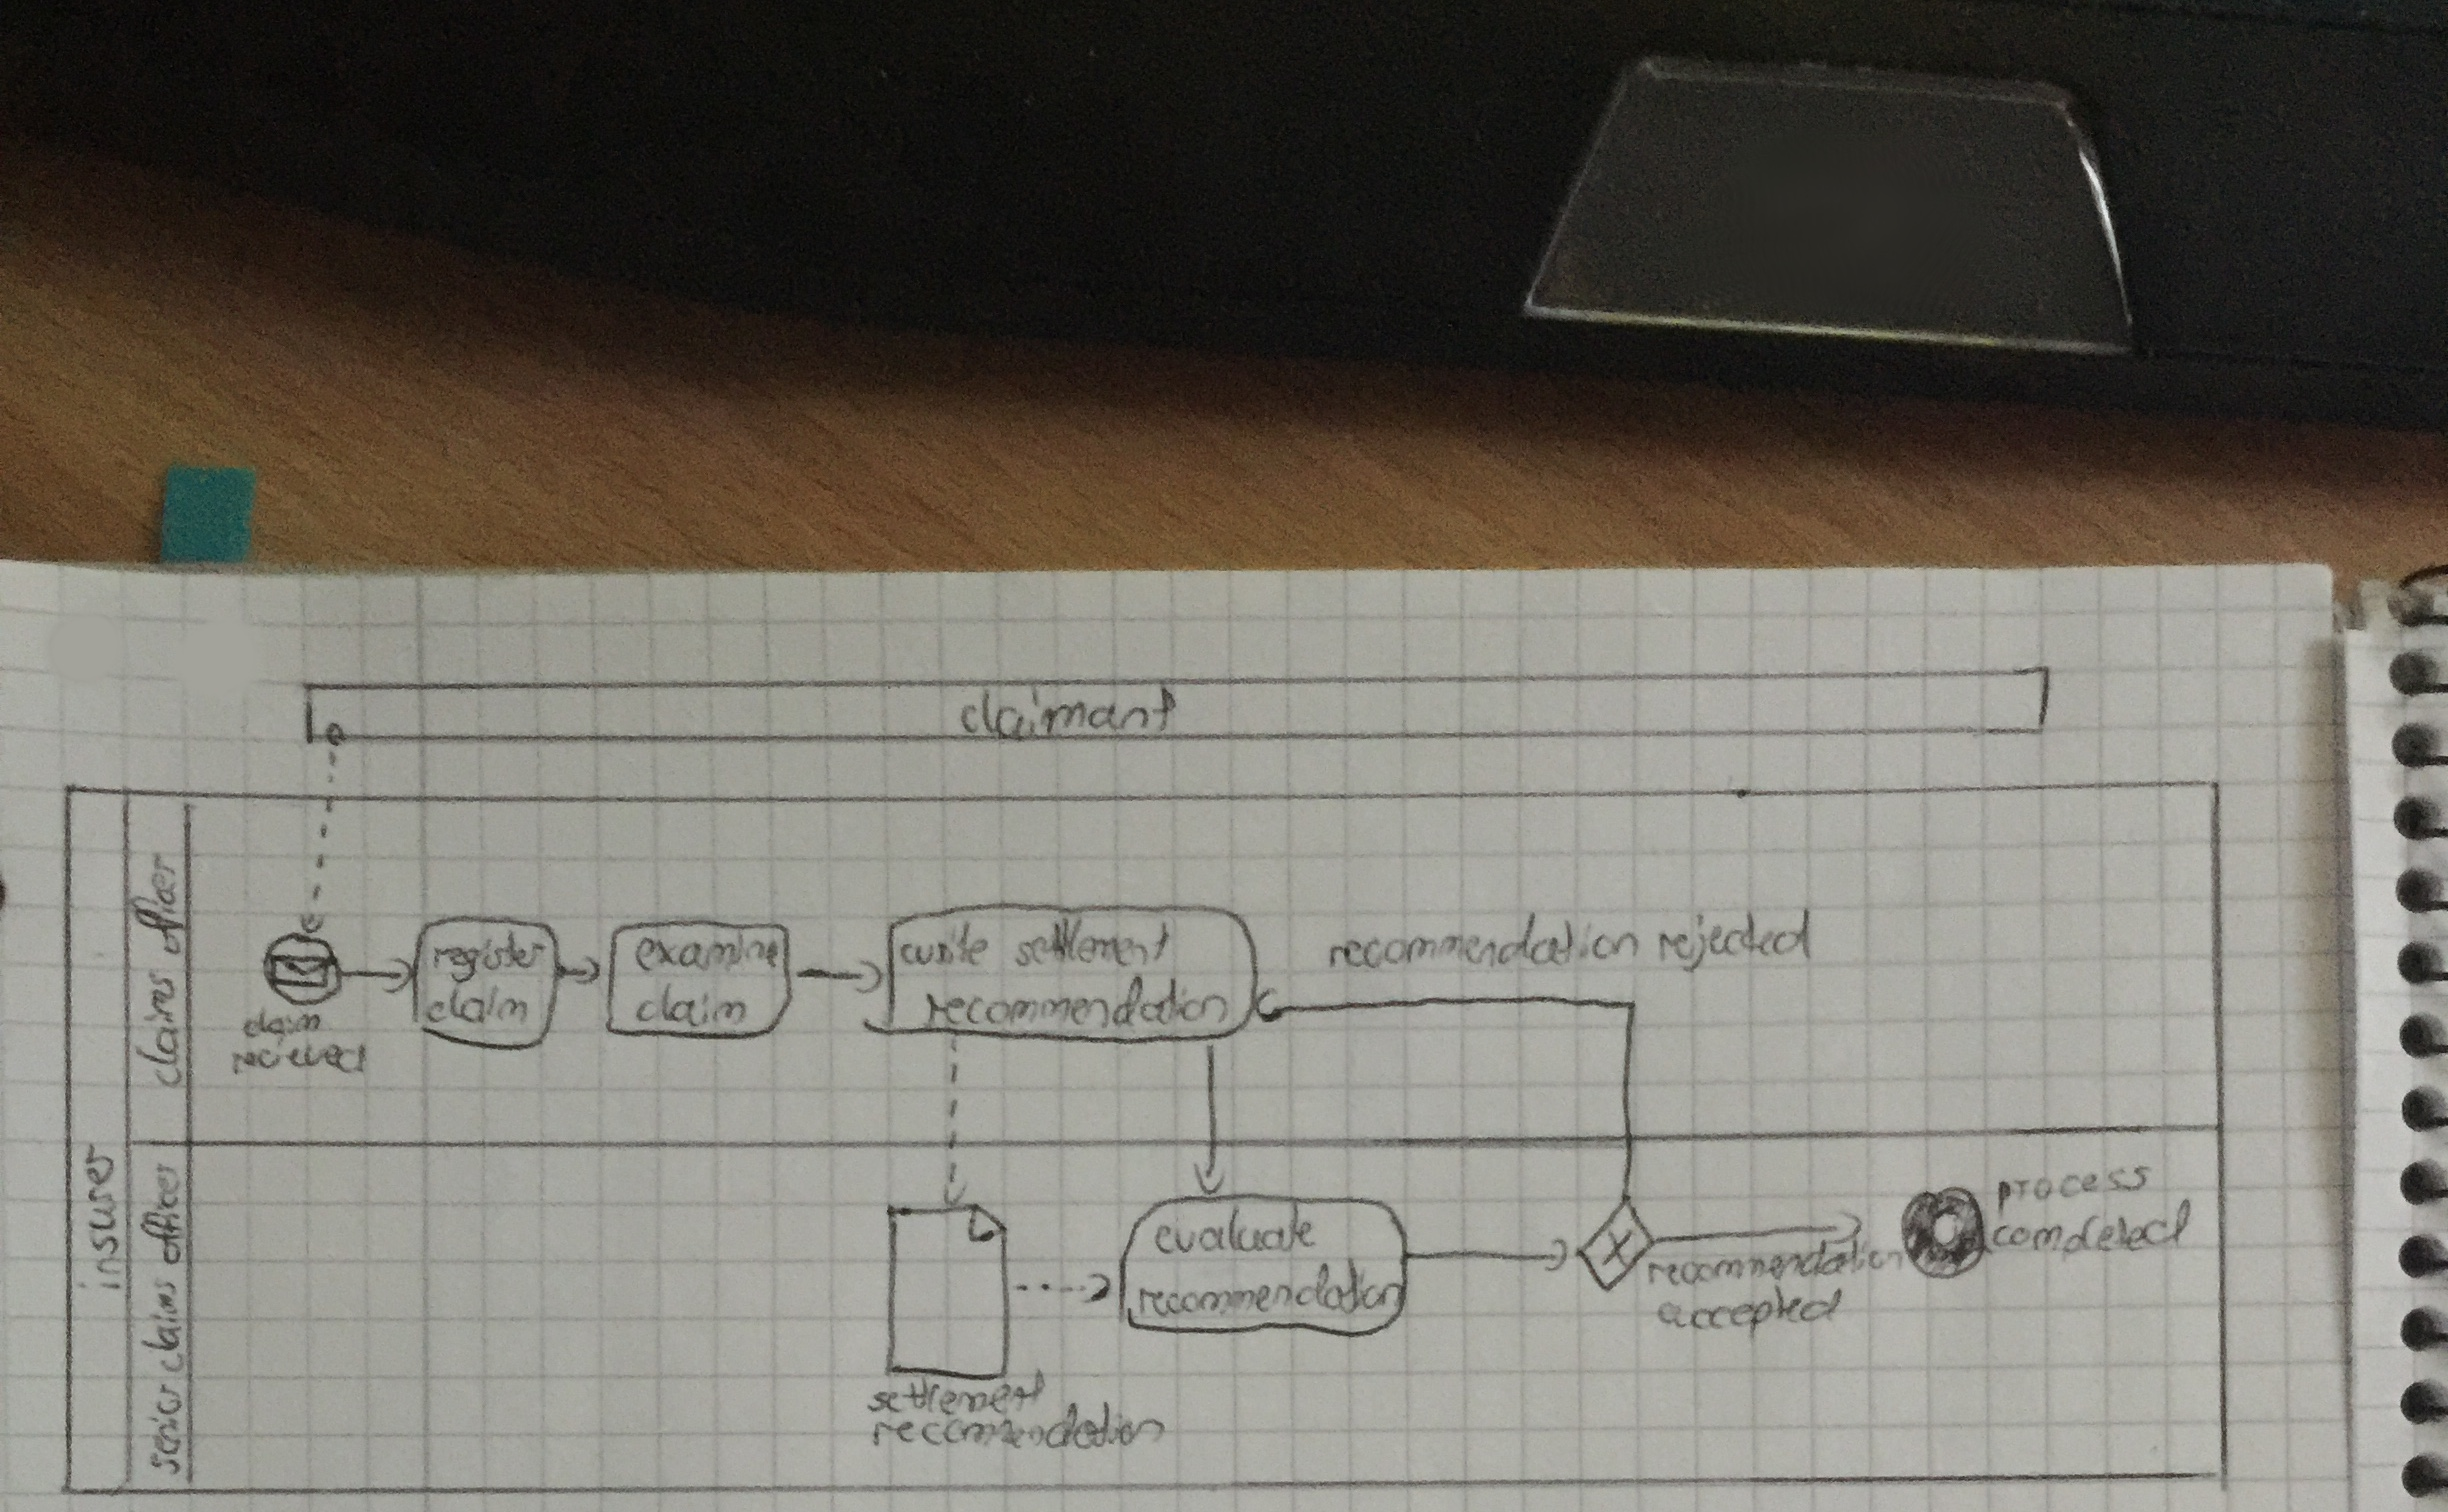accepted: (1649, 1278, 1848, 1349)
claim: (629, 975, 755, 1033), (420, 975, 537, 1031), (236, 1002, 327, 1045)
claimant: (951, 676, 1187, 748)
claims: (128, 960, 189, 1096), (131, 1267, 191, 1379)
completed: (1985, 1190, 2200, 1271)
custe: (894, 914, 997, 974)
evaluate: (1149, 1196, 1324, 1264)
examine: (628, 925, 783, 979)
insurer: (68, 1138, 129, 1300)
officer: (126, 844, 189, 963), (133, 1154, 191, 1273)
process: (1992, 1155, 2158, 1225)
recieved: (226, 1031, 374, 1084)
recommendation: (1320, 905, 1647, 981), (916, 967, 1236, 1038), (1130, 1250, 1413, 1323), (866, 1393, 1173, 1456), (1640, 1231, 1915, 1295)
register: (423, 921, 554, 991)
rejected: (1652, 898, 1820, 979)
senior: (140, 1372, 191, 1481)
settlement: (859, 1360, 1053, 1421), (1005, 911, 1179, 974)
